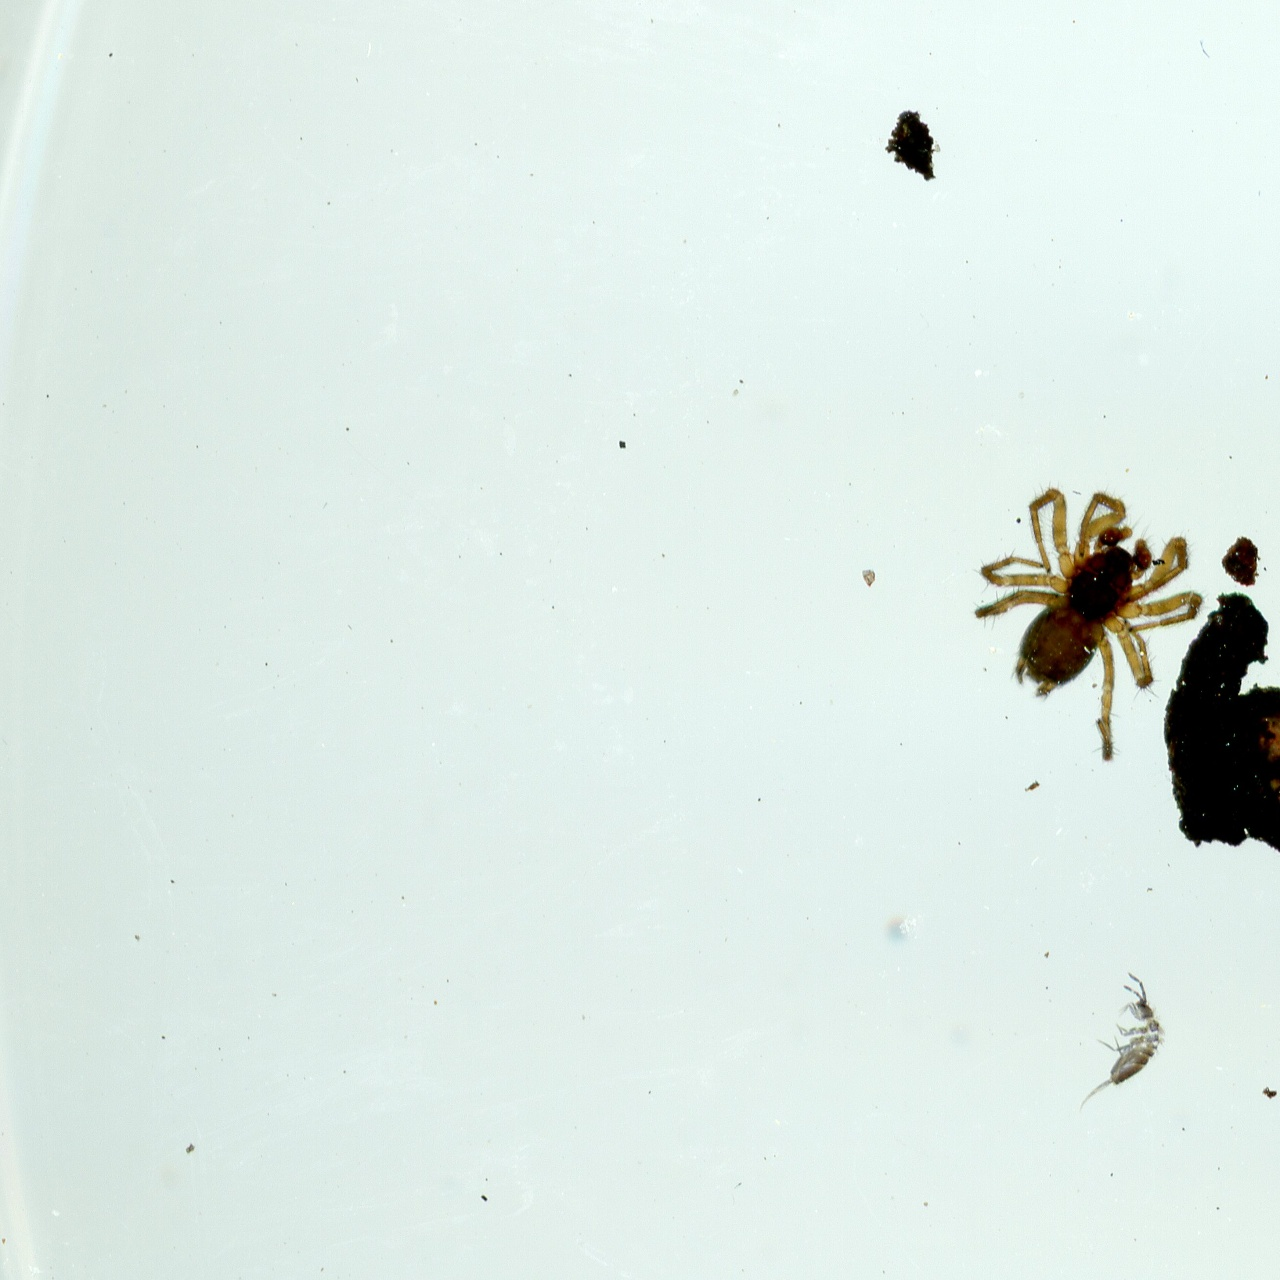arthropod: (960, 477, 1207, 769), (1071, 960, 1183, 1130)
